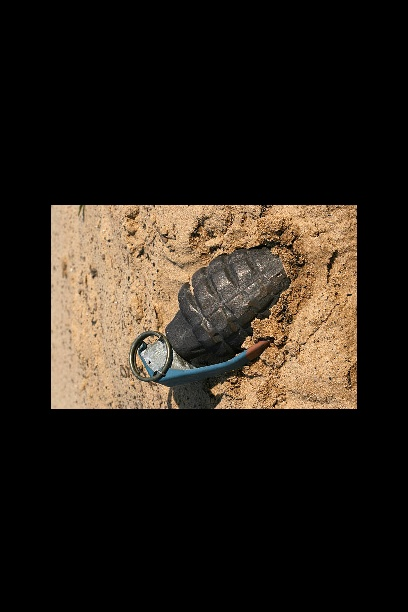e1: (129, 239, 290, 389)
